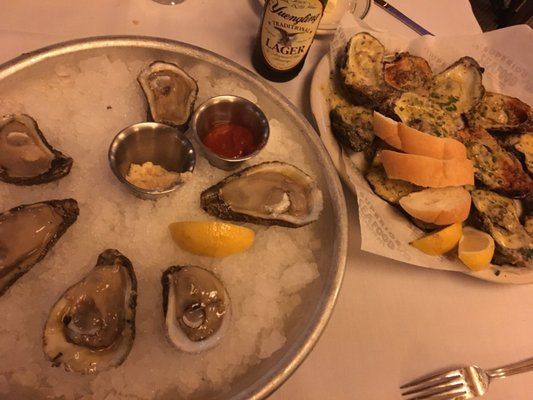salad: (136, 61, 199, 174)
sandwich: (371, 0, 435, 37)
sushi: (108, 121, 197, 199), (193, 94, 270, 171)
